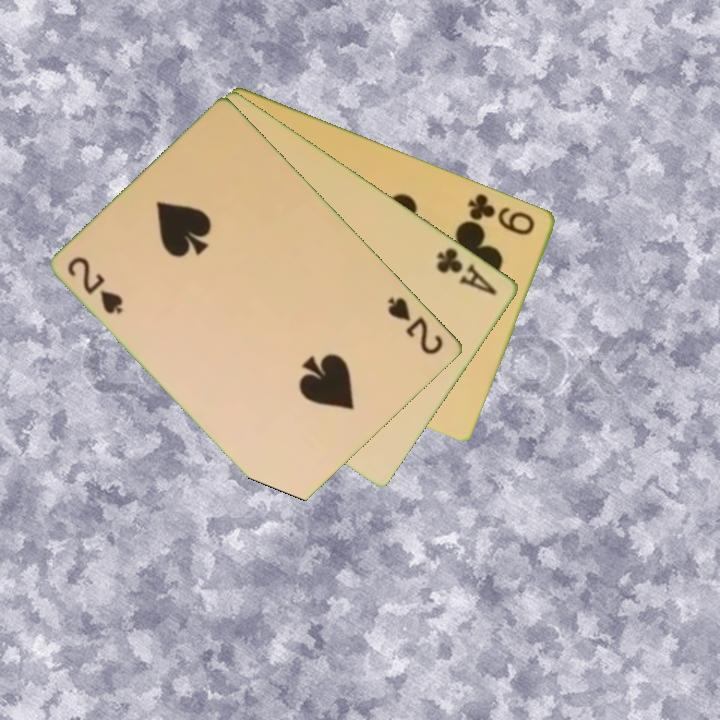2s: (64, 253, 127, 317), (385, 293, 447, 358)
9c: (464, 189, 539, 238)
Ac: (433, 243, 501, 298)
